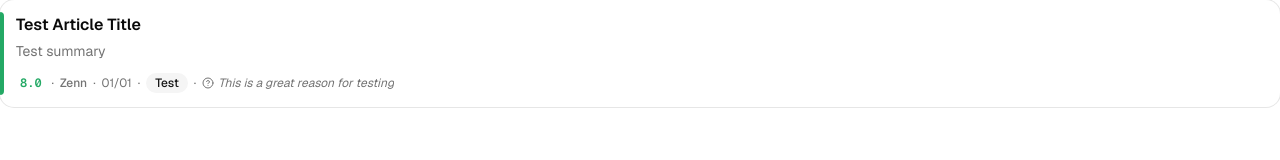
Test case: FavoriteArticleList Component › shows error message when toggle favorite fails (API error)
Press the mouse on the text "Test summary" at (61, 51), box [16,42,106,60]
Press the mouse on the text "Test summary" at (61, 51), box [16,42,106,60]
Press the mouse on the text "Test summary" at (61, 51), box [16,42,106,60]
Press the mouse on the text "Test summary" at (61, 51), box [16,42,106,60]
Press the mouse on the text "Test summary" at (61, 51), box [16,42,106,60]
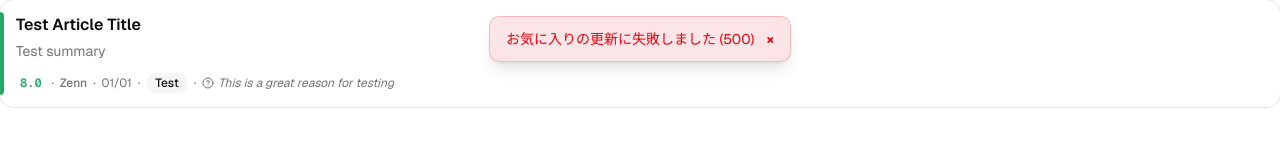
Expected: the text "お気に入りの更新に失敗しました (500)" is shown, [506,29,754,49]
Click the button named "閉じる".
click(770, 39)  # box [766,29,774,49]
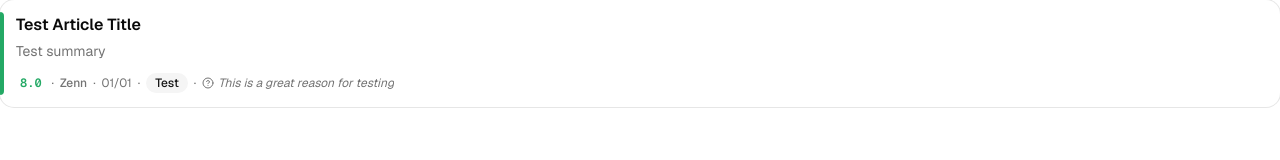
Expected: the text "お気に入りの更新に失敗しました" is gone
